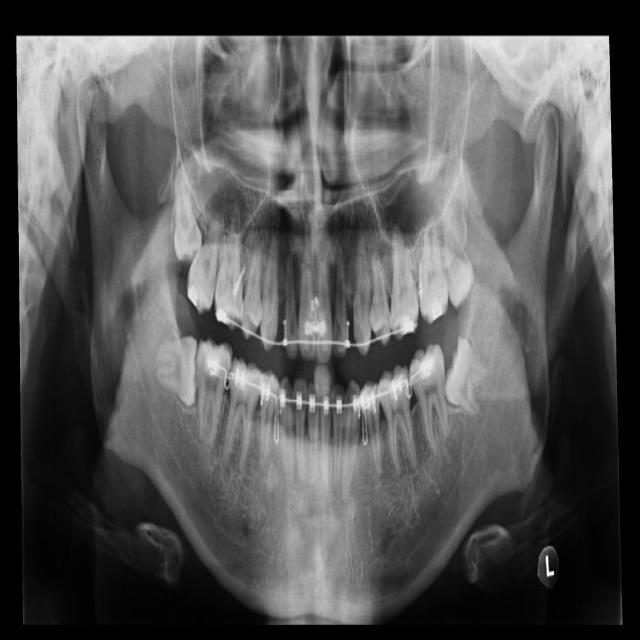3M ESPE Implant: (166, 161, 204, 269)
73: (592, 566, 594, 580)
BioHorizons Implant: (416, 190, 449, 325)
BioLife Implant: (433, 188, 479, 312)
Biomet 3i Implant: (437, 334, 500, 419)
Blue Sky Bio Implant: (406, 342, 454, 457)
Caries: (182, 202, 227, 317)
Implant: (193, 336, 234, 454)
Keystone Dental Implant: (152, 335, 200, 409)
